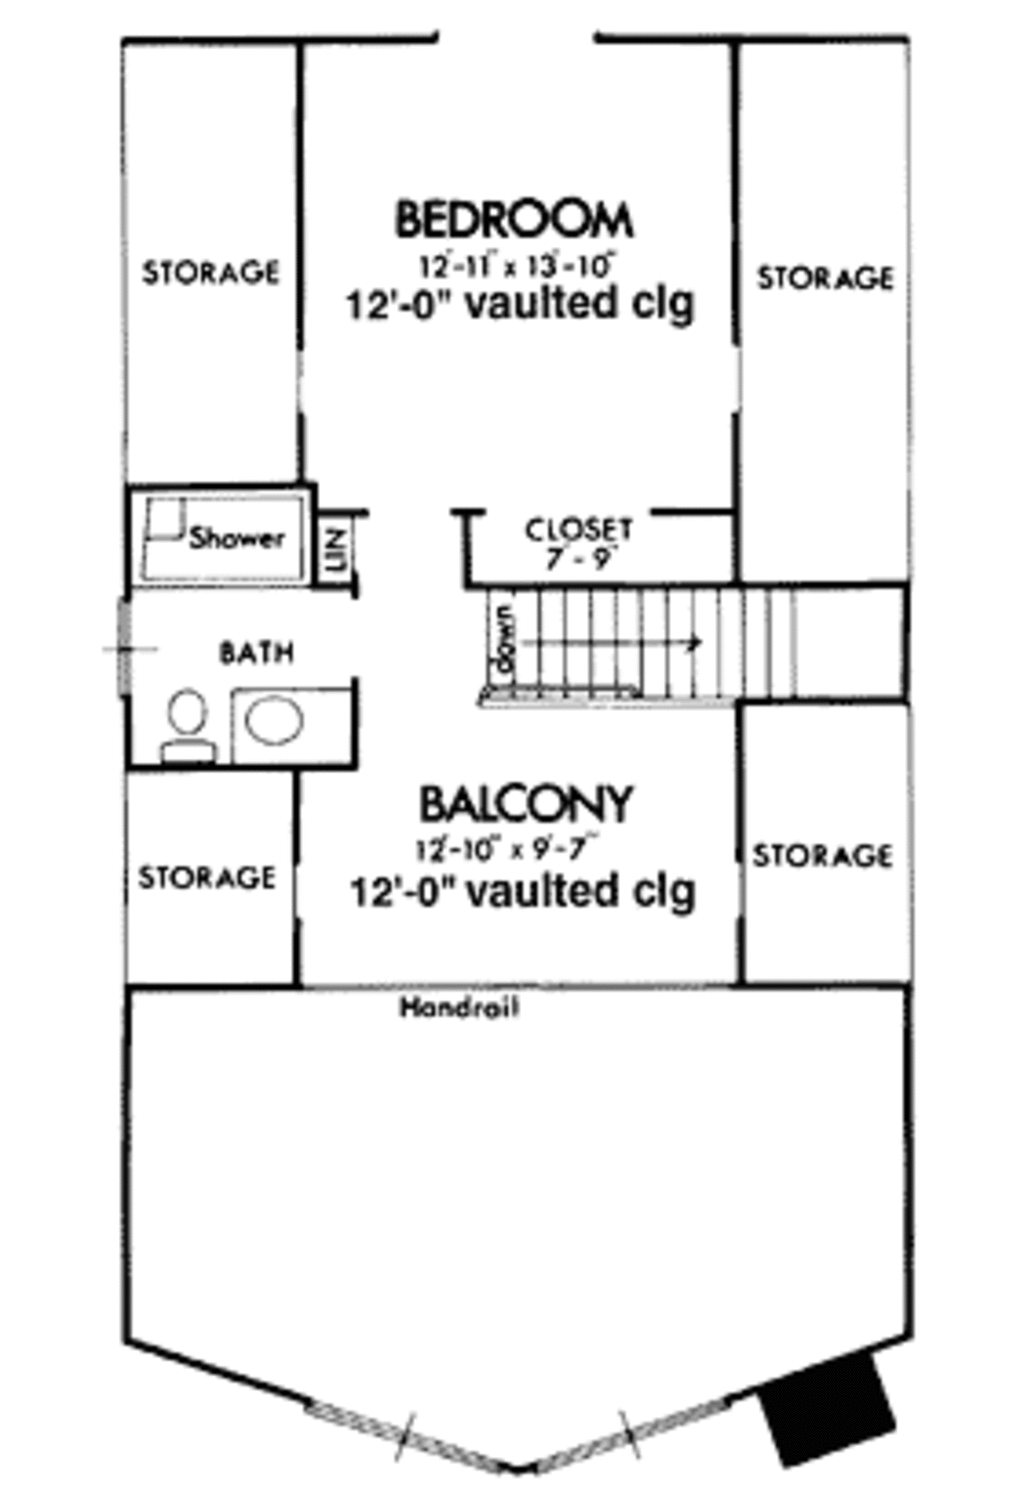large_sink: (148, 675, 222, 768)
small_sink: (234, 688, 372, 760)
stairs: (483, 578, 937, 718)
window: (513, 1369, 755, 1482), (300, 1391, 515, 1480), (110, 596, 150, 702), (719, 343, 757, 432)
